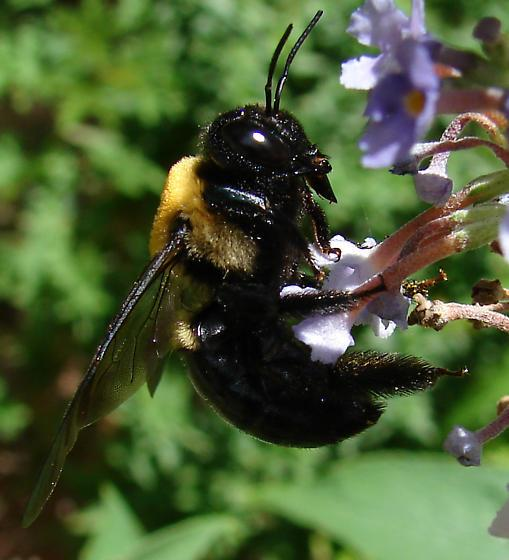Xylocopa: (27, 6, 456, 534)
